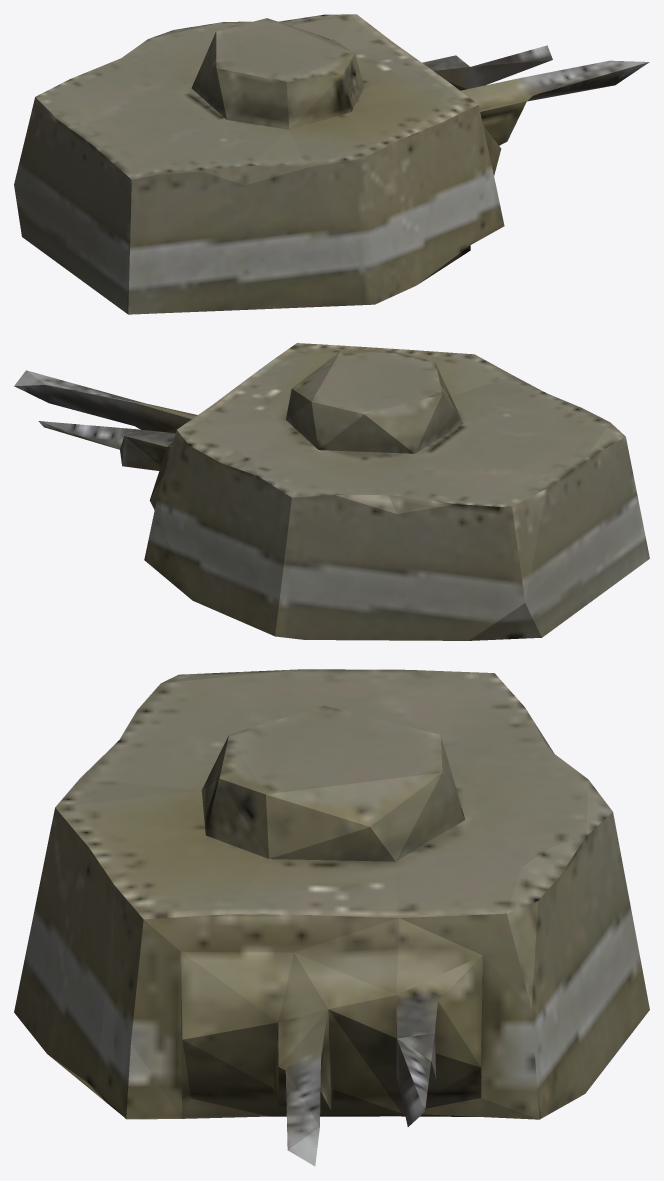
The model's file is turret.obj.
3 renders of one model, top to bottom at view 1: azimuth 30°, elevation 25°; view 2: azimuth 150°, elevation 25°; view 3: azimuth 270°, elevation 25°, orthographic. The views are drawn at different scales.
Size of the model in its own units: 0.5144 by 0.155 by 0.3279.
Materials: 1 (1 with a texture image).
